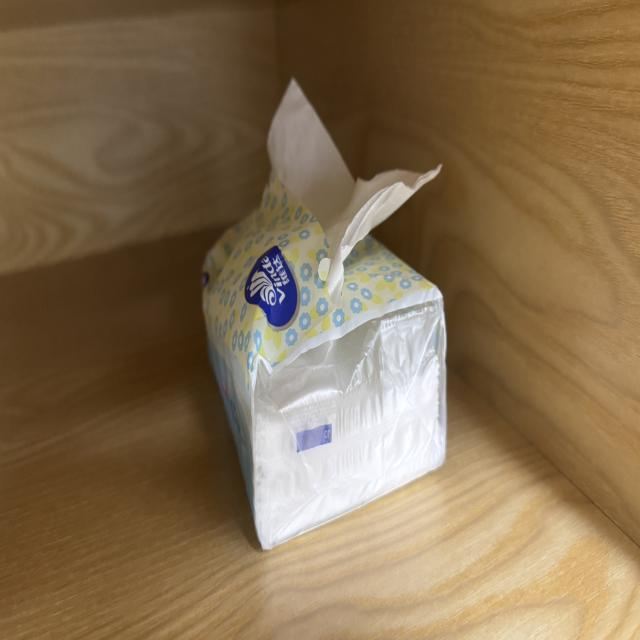tissue: (203, 82, 445, 548)
